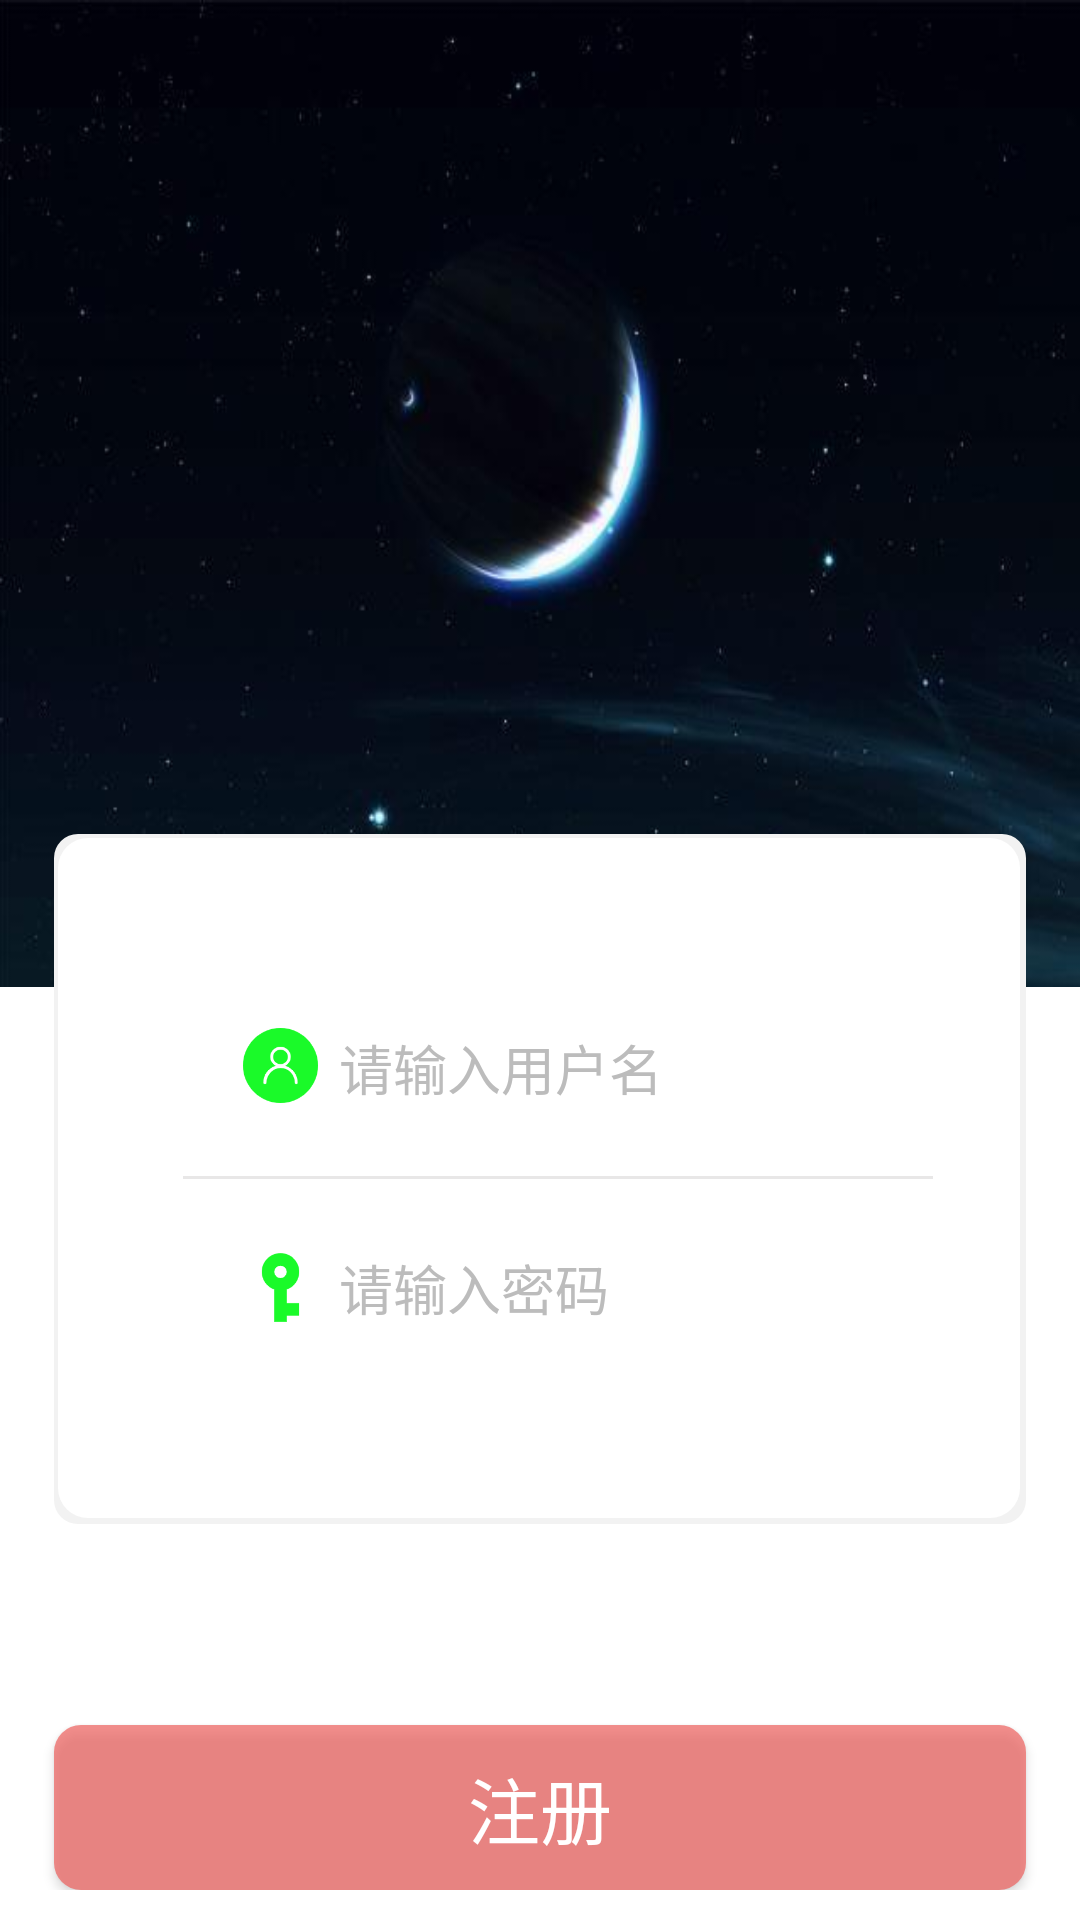

Locate icon controls on the screen. Image size 1080x1920, boxes as (x1, y1, x2, y2).
account: (243, 1028, 318, 1103)
password: (262, 1253, 299, 1322)
